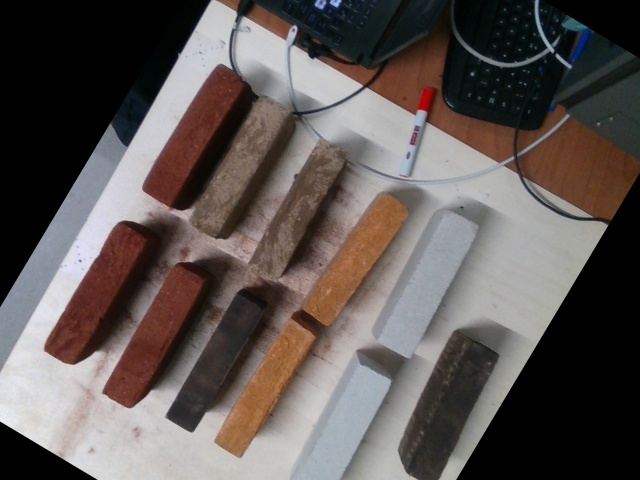brick-side: (136, 65, 247, 207), (44, 219, 149, 365), (103, 262, 204, 410), (162, 290, 265, 435), (378, 211, 478, 359), (211, 320, 316, 458), (302, 194, 406, 330), (188, 97, 286, 239), (402, 341, 500, 479), (248, 143, 345, 282), (287, 365, 390, 479)
